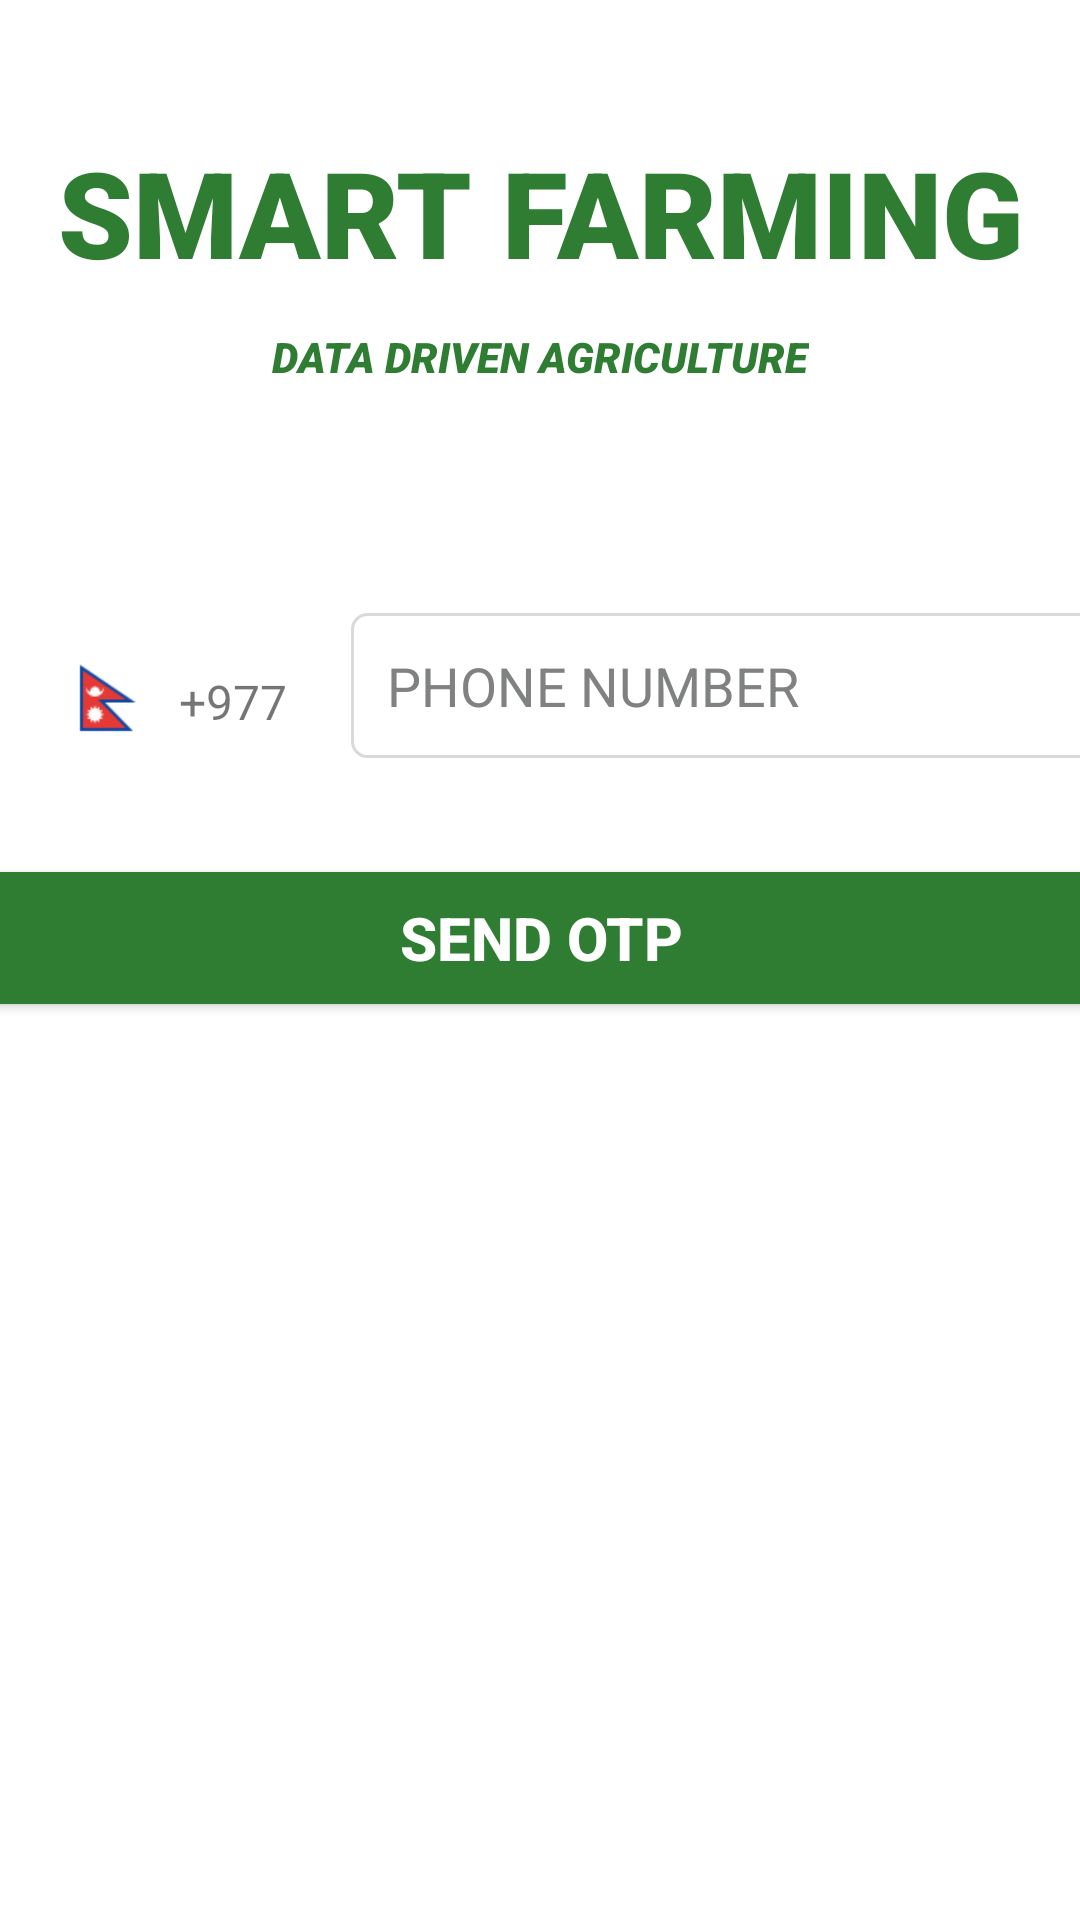

Point at icon controls on the screen. Image size 1080px×1920px, points as (x,y).
nepal: (107,698)
